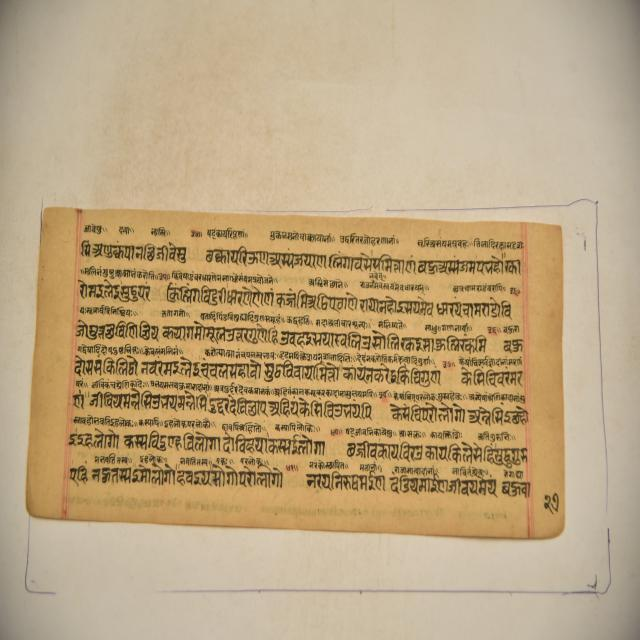text_paragraph: (25, 206, 565, 539)
